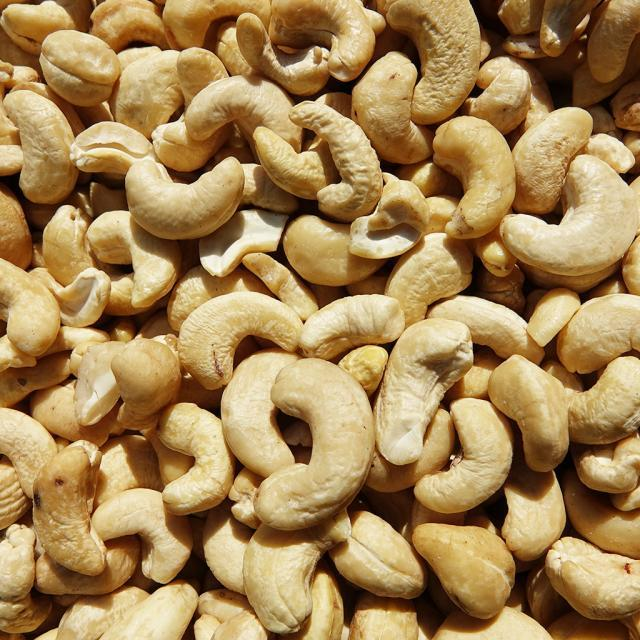Frutta secca: (22, 7, 629, 623)
